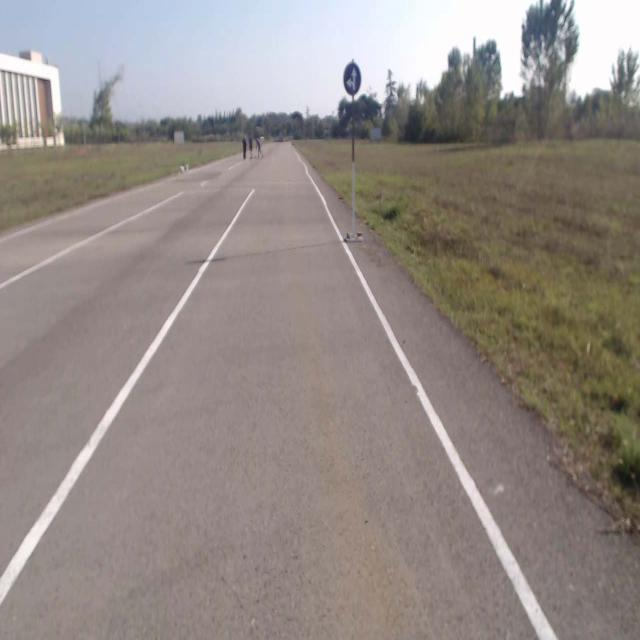ilerisol: (344, 63, 360, 94)
